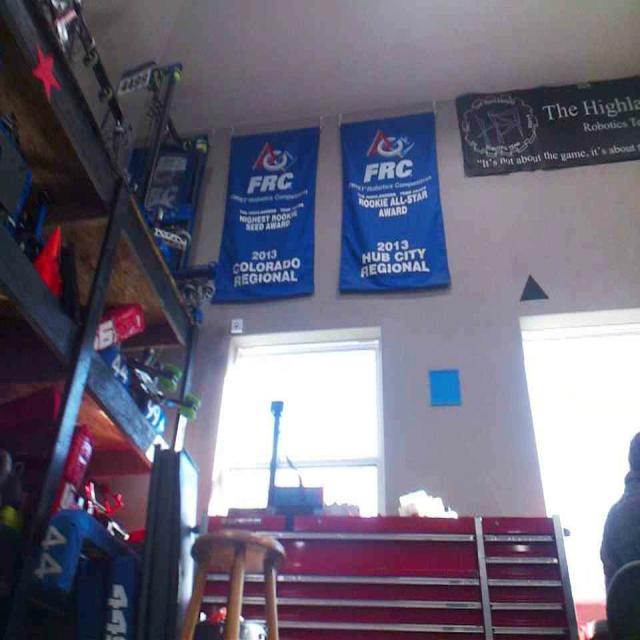square_blue: (425, 366, 463, 406)
star_red: (30, 42, 59, 98)
triangle_black: (519, 271, 547, 303)
